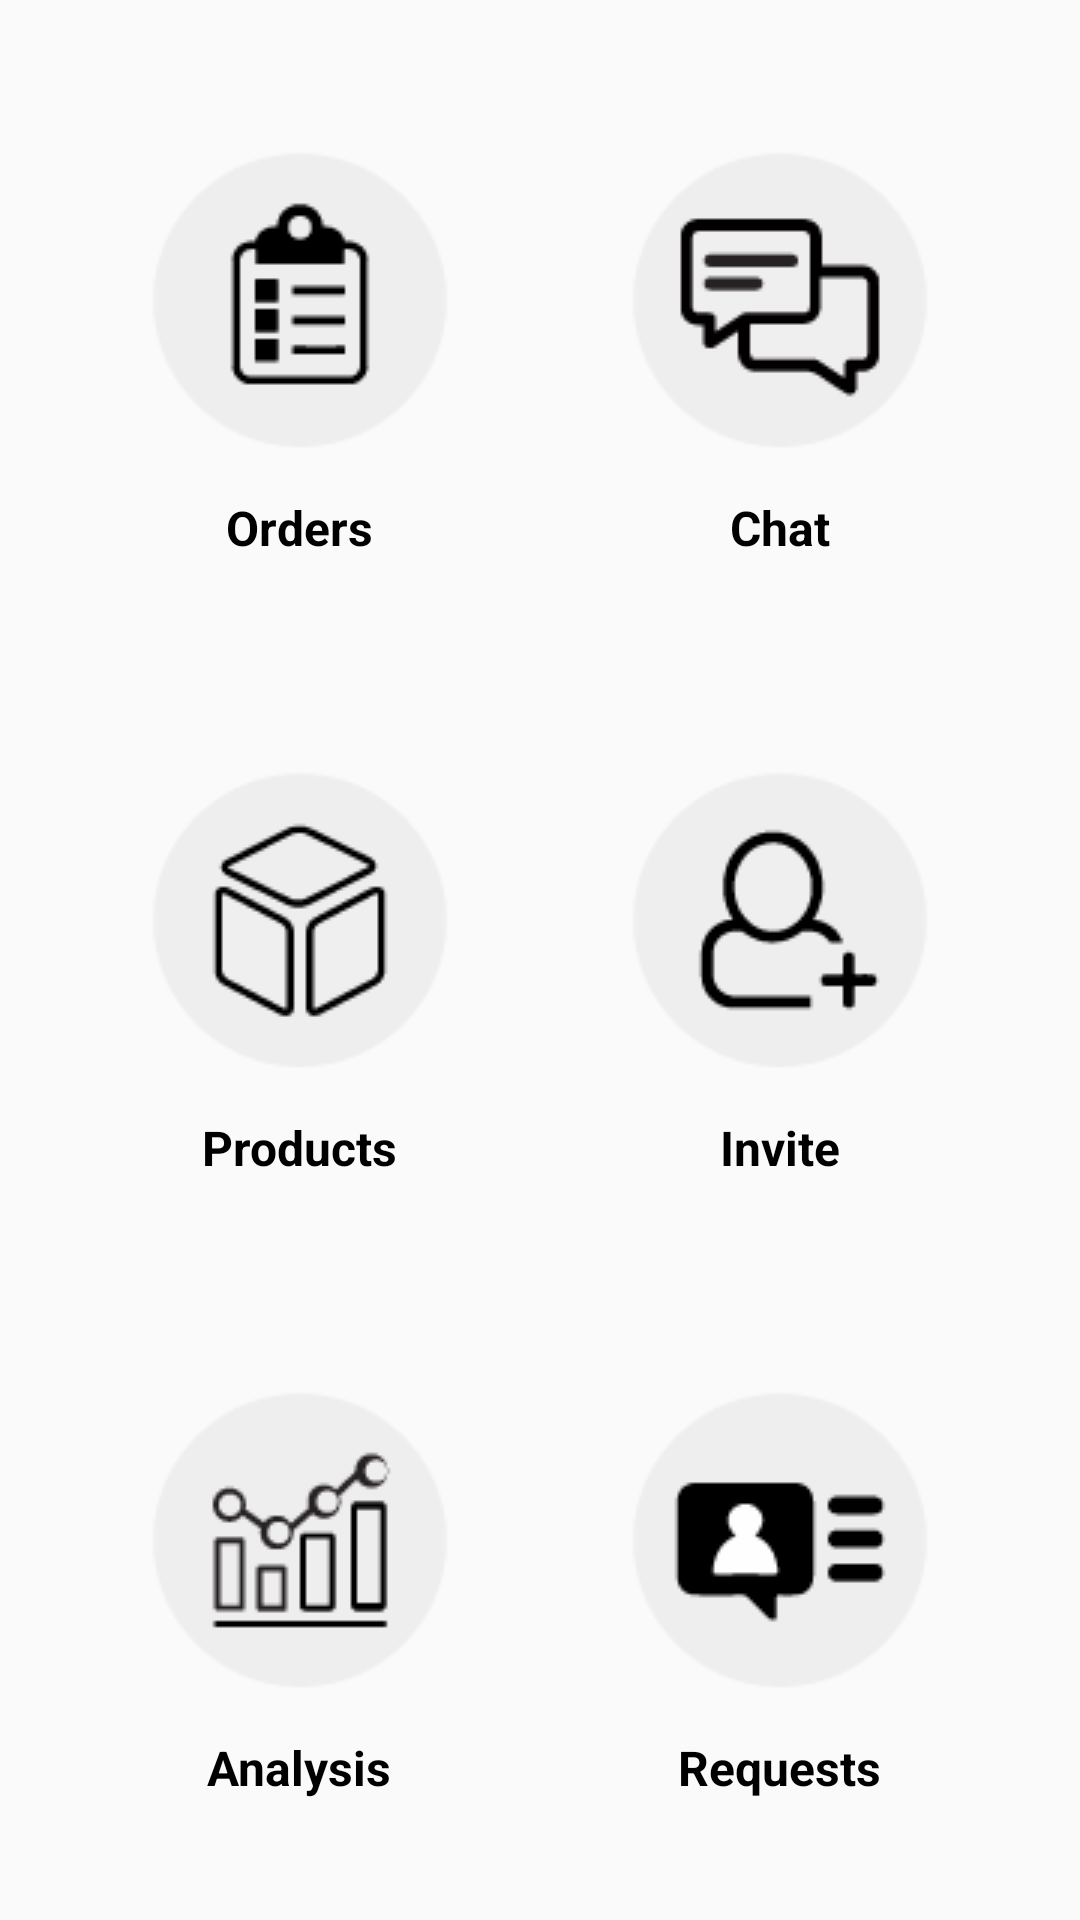

Icons on this 1080*1920 Android screen, each with the point to tap as [x,y]:
order main: [300,294]
